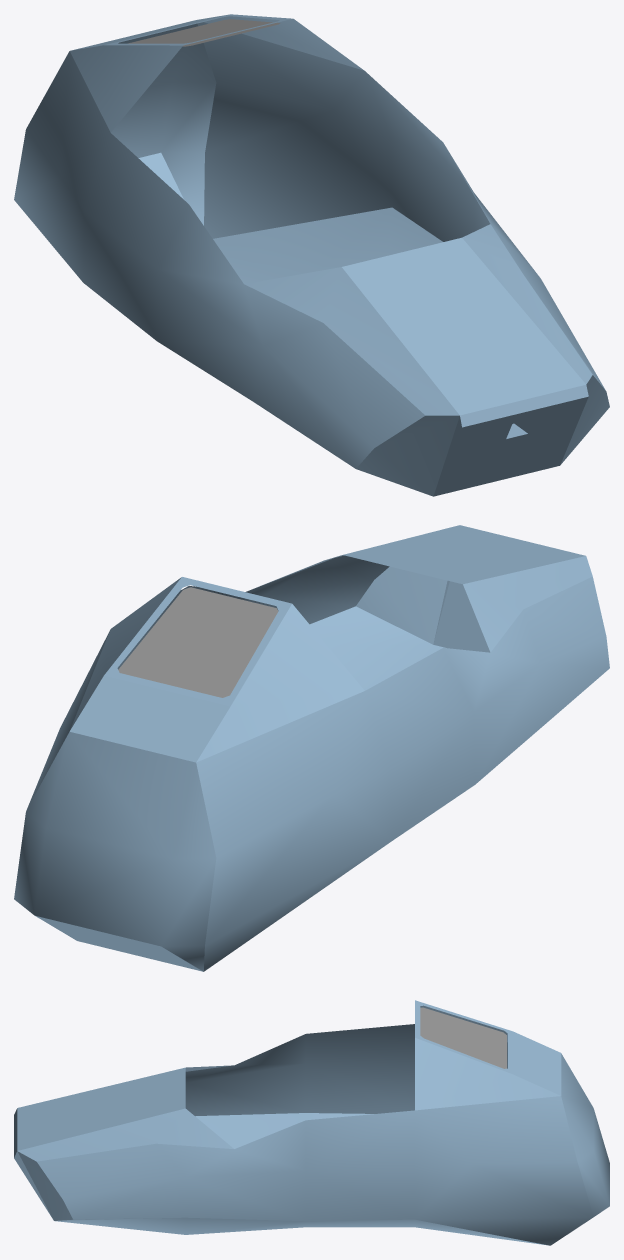
The model's file is cabin.FBX.
3 renders of one model, top to bottom at view 1: azimuth 30°, elevation 25°; view 2: azimuth 150°, elevation 25°; view 3: azimuth 270°, elevation 25°, orthographic. The views are drawn at different scales.
Parts seen in each view (by area): view 1: Box170354; view 2: Box170354; view 3: Box170354.
Part boxes in pixels (<box>): Box170354: <box>14,14,609,496</box>; Box170354: <box>14,525,609,971</box>; Box170354: <box>14,1000,609,1245</box>.
Size of the model in its own units: 0.071 by 0.1651 by 0.0628.
